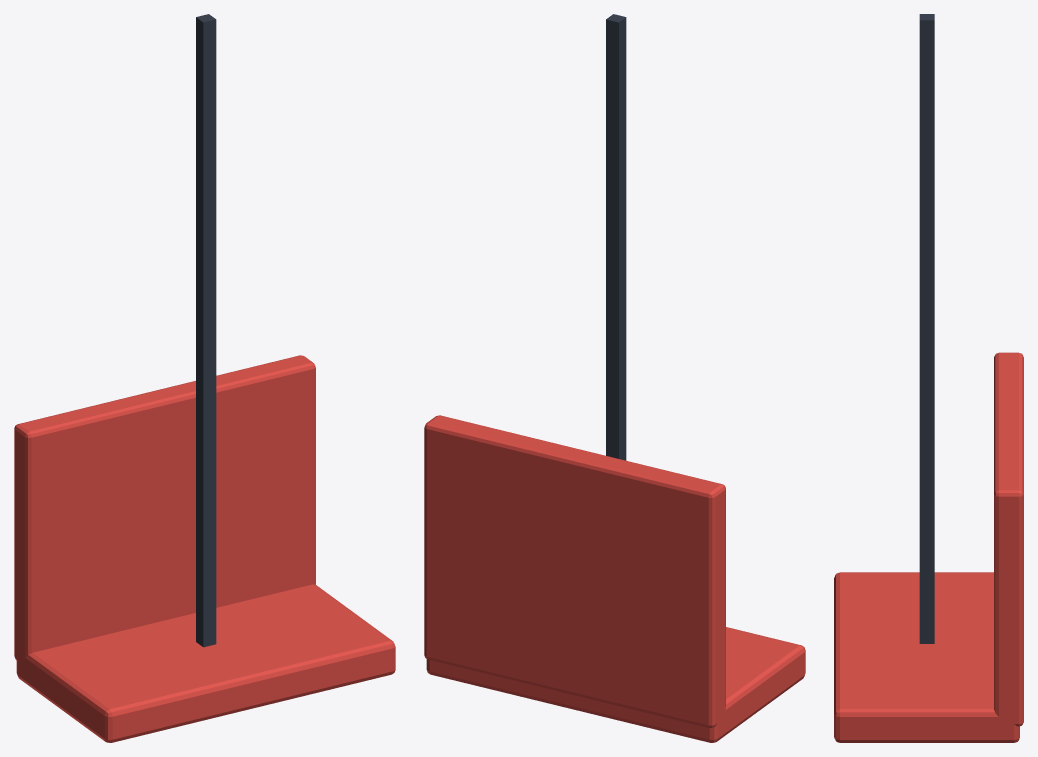
Rendered from Ski_Chair.fbx.
The picture shows the model from 3 angles, left to right: view 1: azimuth 30°, elevation 25°; view 2: azimuth 150°, elevation 25°; view 3: azimuth 270°, elevation 25°; orthographic projection.
Parts seen in each view (by area): view 1: Chair; view 2: Chair; view 3: Chair.
Boxes of the visible parts, bbox=[...] form: Chair: bbox=[14, 14, 395, 742]; Chair: bbox=[424, 14, 805, 742]; Chair: bbox=[834, 14, 1023, 742].
Bounding box in the file's own units: 0.9 × 1.95 × 0.51.
